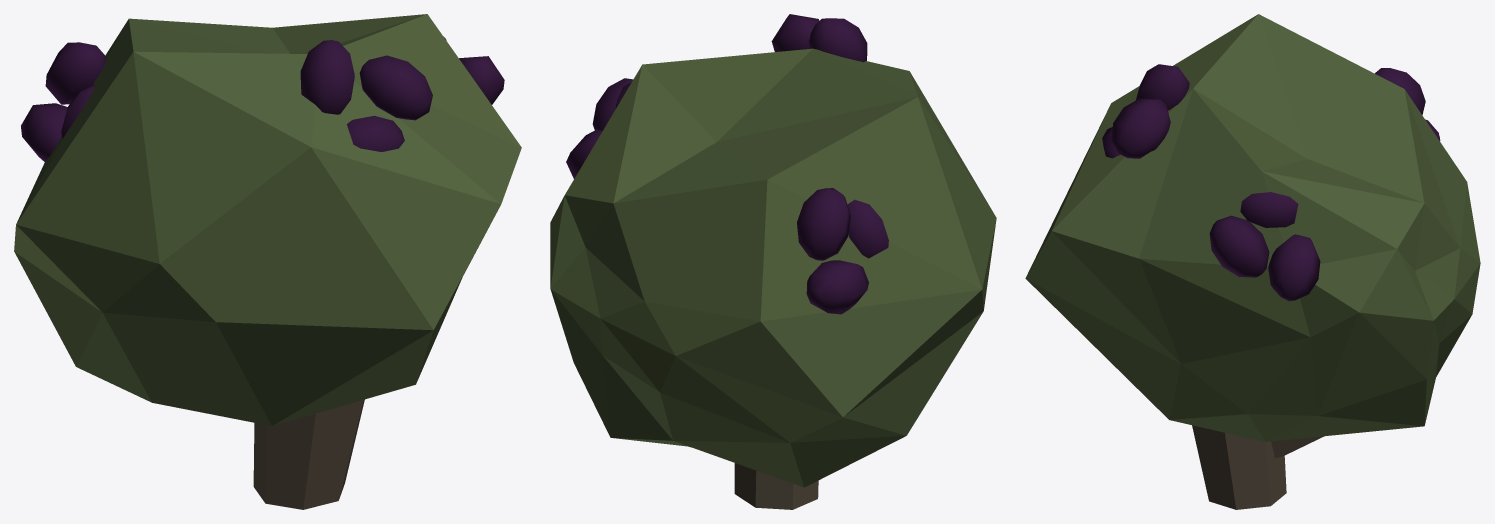
The model's file is Bushes D, 1B.fbx.
3 views of the same model, side by side, from view 1: azimuth 30°, elevation 25°; view 2: azimuth 150°, elevation 25°; view 3: azimuth 270°, elevation 25° (orthographic). The views are drawn at different scales.
Visible parts, largest first — view 1: Icosphere.004; view 2: Icosphere.004; view 3: Icosphere.004.
Boxes of the visible parts, left/top/right/bottom form: Icosphere.004: left=14, top=14, right=521, bottom=509; Icosphere.004: left=550, top=14, right=996, bottom=509; Icosphere.004: left=1025, top=14, right=1480, bottom=509.
Size of the model in its own units: 454 by 469 by 457.
